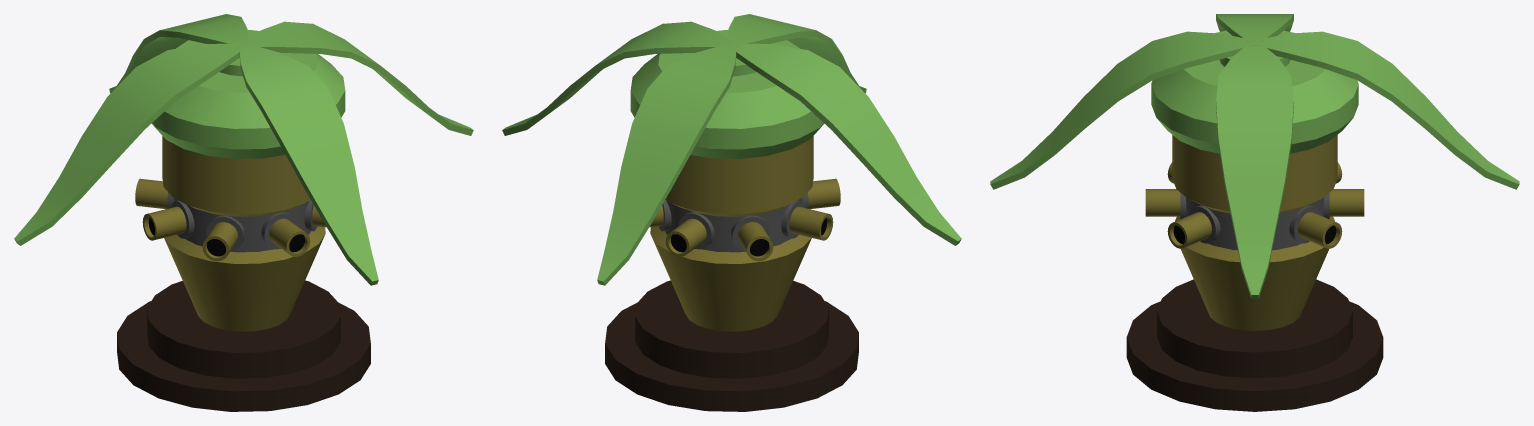
The model's file is CornTurret_Model.fbx.
3 views of the same model, side by side, from view 1: azimuth 30°, elevation 25°; view 2: azimuth 150°, elevation 25°; view 3: azimuth 270°, elevation 25° (orthographic).
Visible parts, largest first — view 1: CornTurret; view 2: CornTurret; view 3: CornTurret.
Boxes of the visible parts, x1=… form: CornTurret: x1=14, y1=14, x2=473, y2=411; CornTurret: x1=502, y1=14, x2=961, y2=411; CornTurret: x1=990, y1=14, x2=1519, y2=411.
Bounding box in the file's own units: 1.6 × 1.05 × 1.6.
